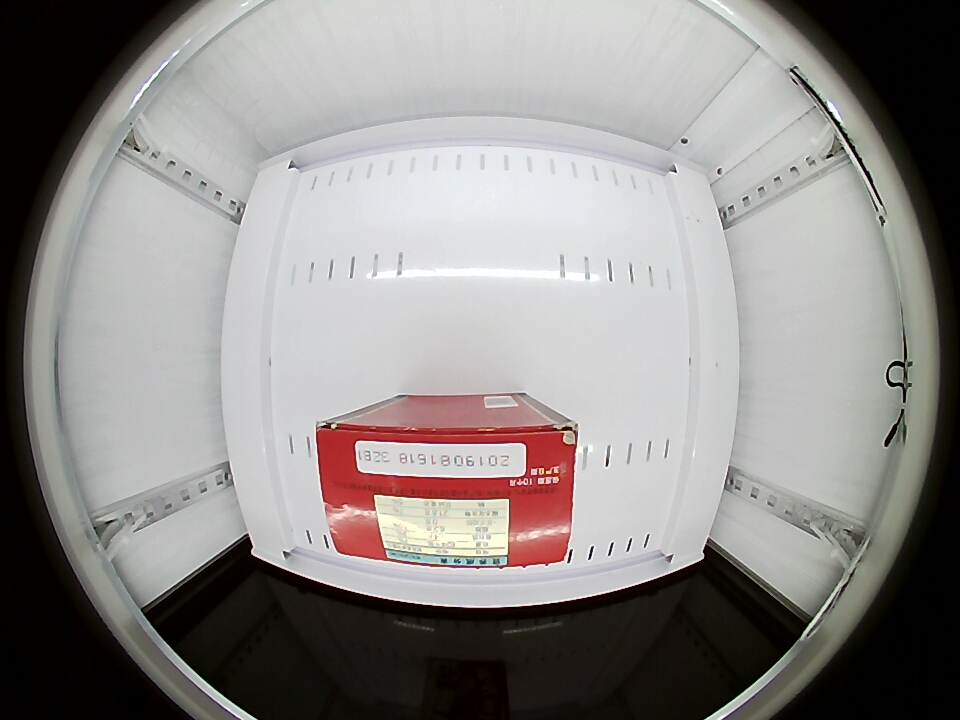haoliyou: (313, 404, 579, 571)
